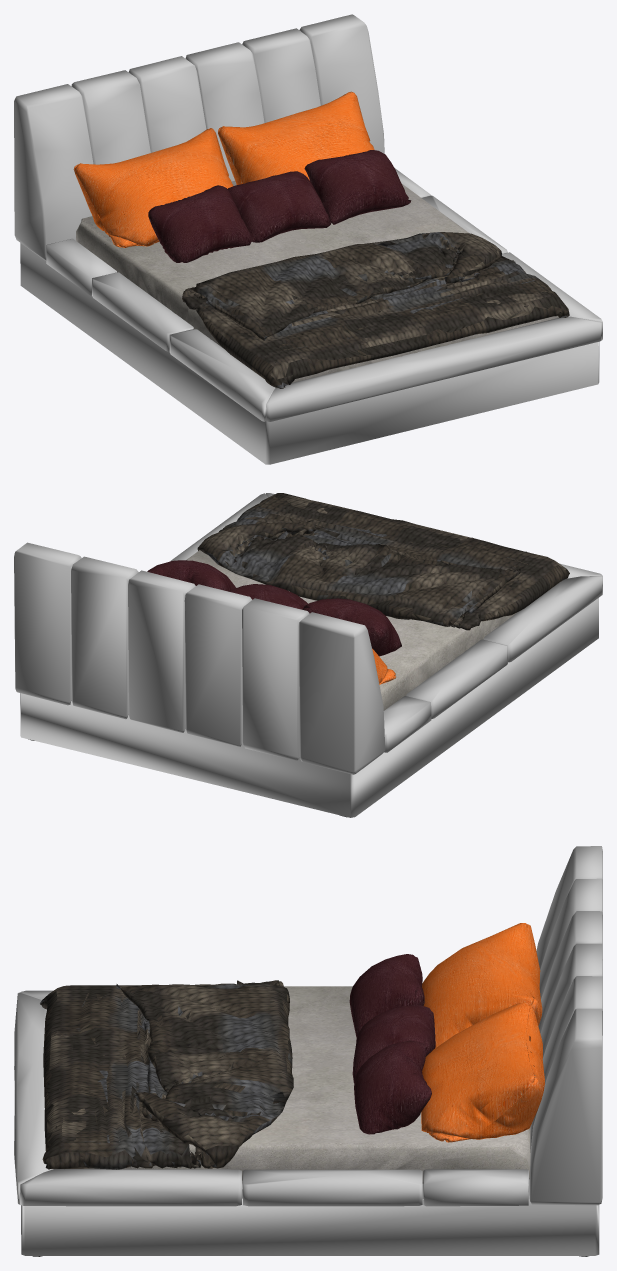
File: bedroom_bed.gltf
3 views of the same model, one above another, from view 1: azimuth 30°, elevation 25°; view 2: azimuth 150°, elevation 25°; view 3: azimuth 270°, elevation 25° (orthographic). The views are drawn at different scales.
Visible parts, largest first — view 1: Bedroom Bed.001; view 2: Bedroom Bed.001; view 3: Bedroom Bed.001.
Part boxes in pixels (bbox=[...]): Bedroom Bed.001: bbox=[14, 14, 602, 464]; Bedroom Bed.001: bbox=[14, 493, 602, 817]; Bedroom Bed.001: bbox=[14, 846, 602, 1256].
Size of the model in its own units: 1.89 by 0.9889 by 2.38.
